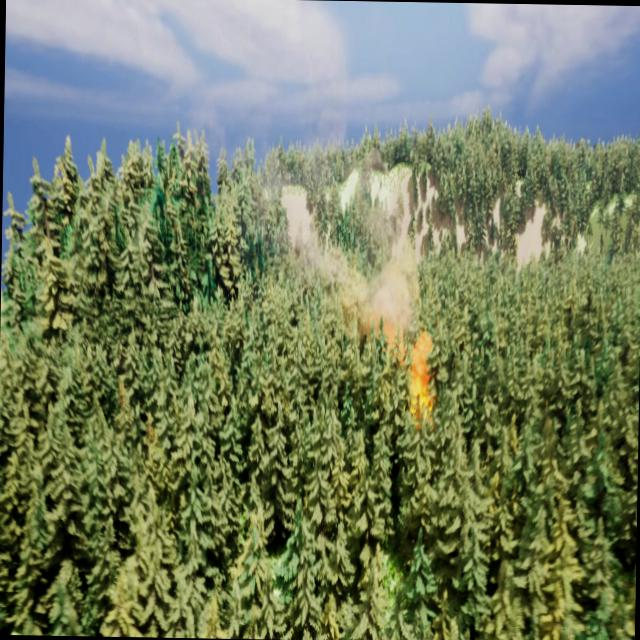fire: (404, 331, 438, 421)
smoke: (261, 147, 420, 353)
